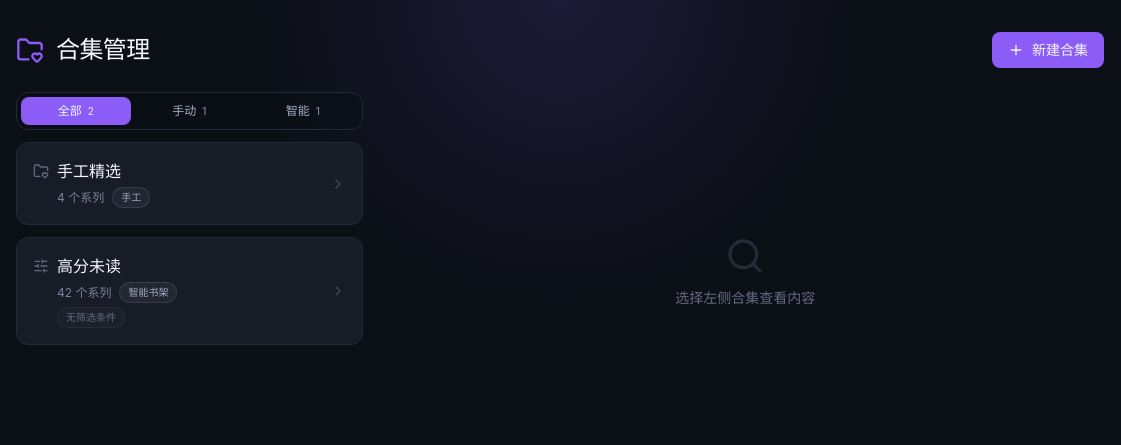
it: 合集页右栏的成员加载 › 慢网下先点智能书架再点手工合集，先发的响应后到也不会盖掉当前成员
The image size is (1121, 445).
What coordinates should you click on to do the following:
click the text "高分未读"
I would click on:
 (89, 266)
Its box is [57, 254, 121, 278].
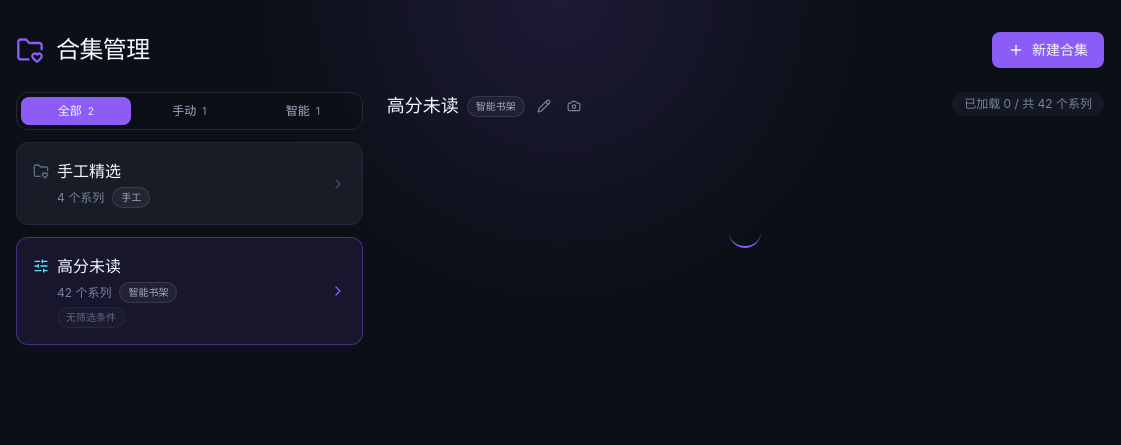
What coordinates should you click on to do the following:
click the text "手工精选"
I would click on:
 (89, 171)
Its box is [57, 159, 121, 183].
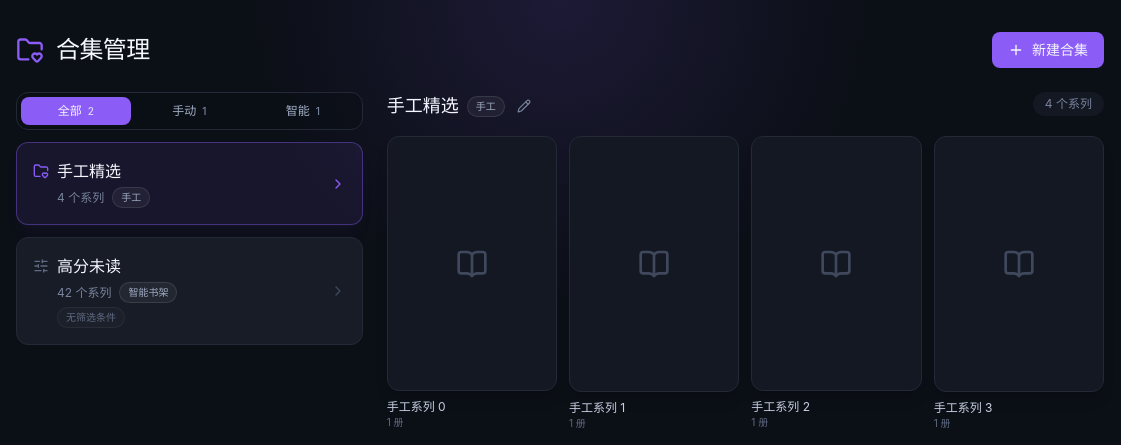
Expected: the text "手工系列 0" is shown 4 times, [387, 400, 446, 414]; [569, 400, 625, 414]; [751, 400, 810, 414]; [934, 400, 992, 414]
